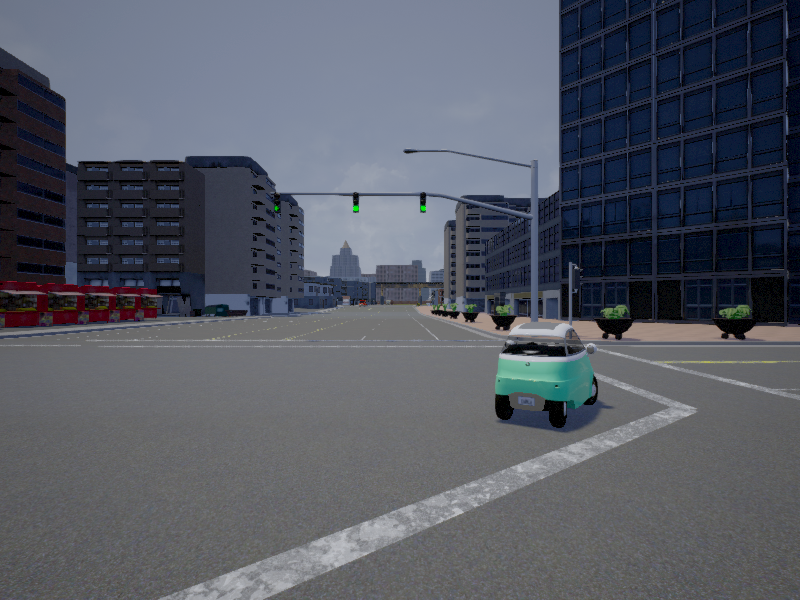Benign: (496, 320, 603, 430)
